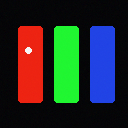0 point: (25, 47, 31, 53)
